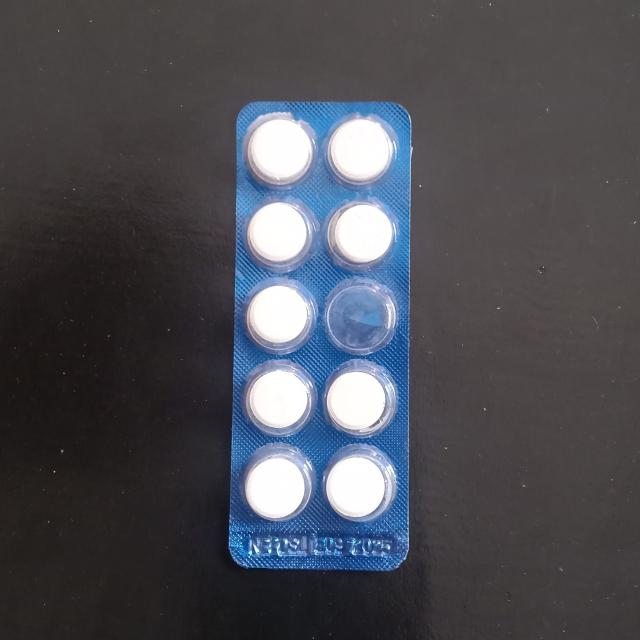defect: (322, 278, 401, 357)
